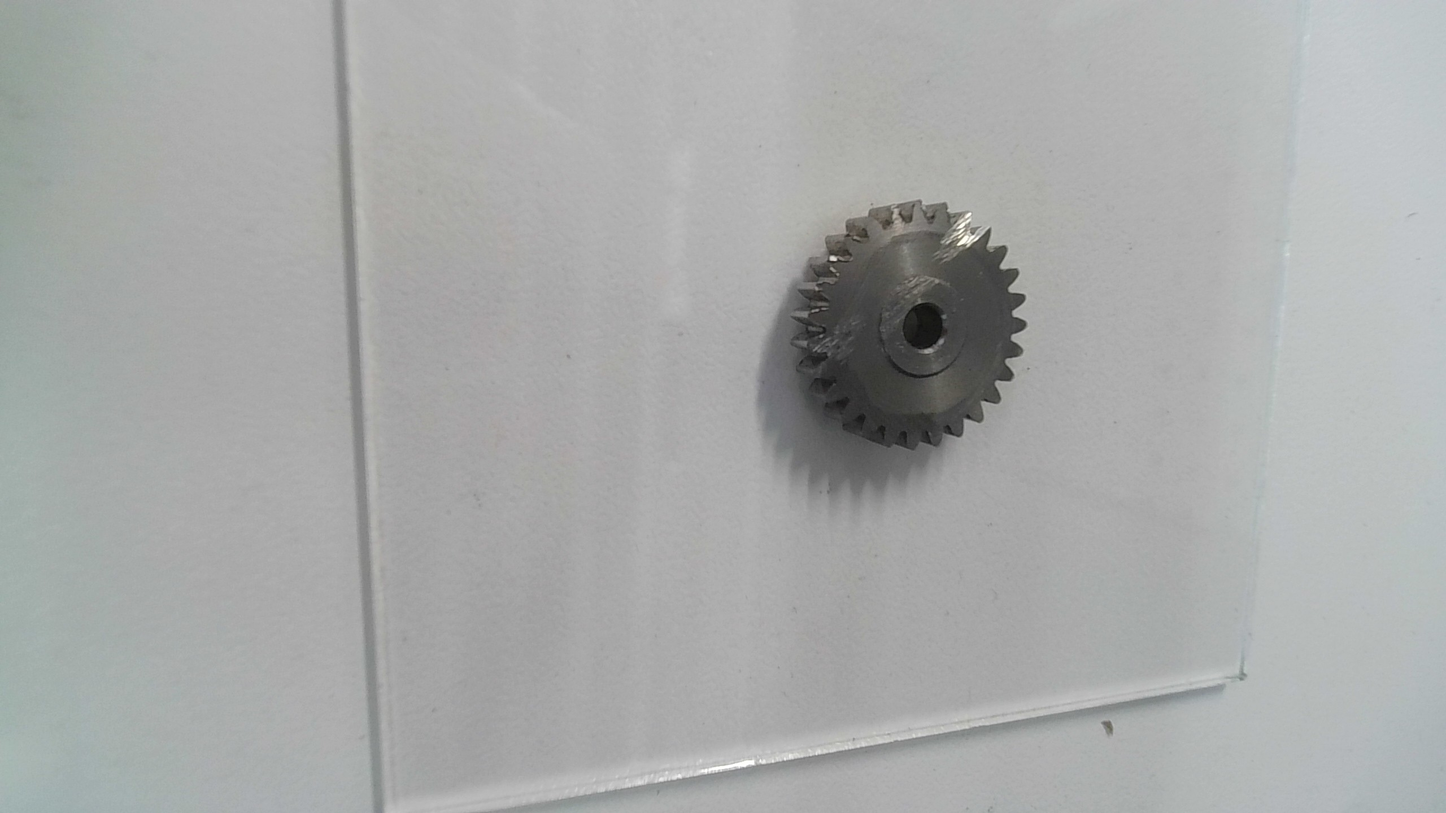gear: (788, 200, 1033, 460)
